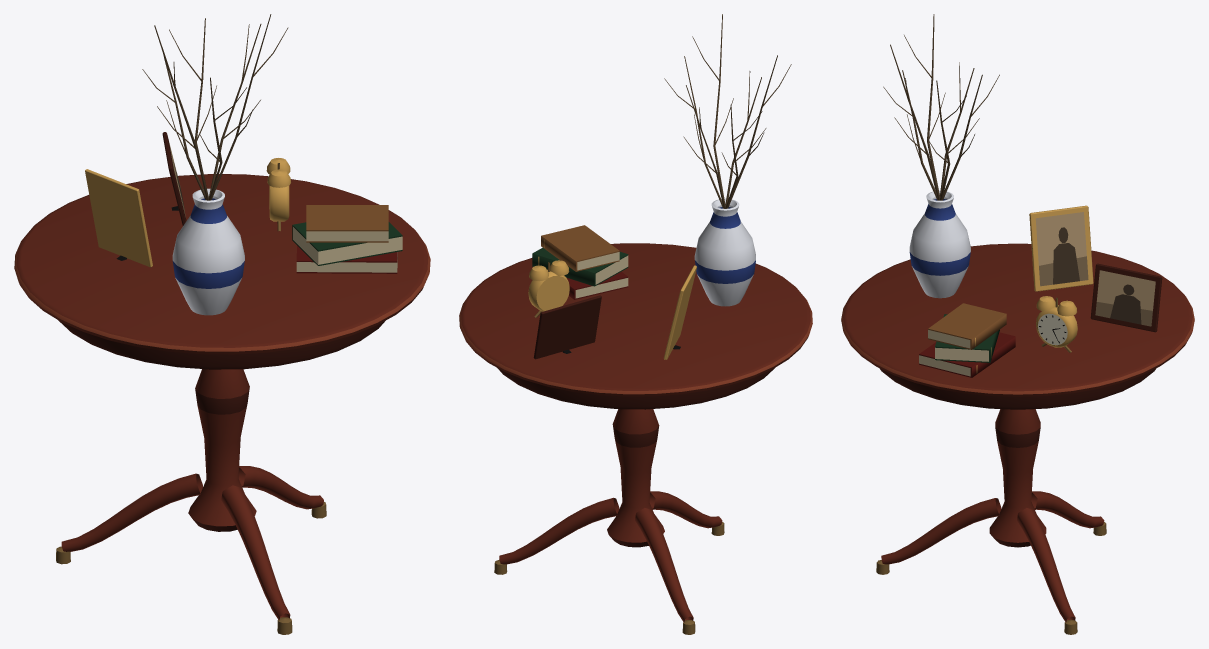
File: table_188.glb
The picture shows the model from 3 angles, left to right: view 1: azimuth 30°, elevation 25°; view 2: azimuth 150°, elevation 25°; view 3: azimuth 270°, elevation 25°; orthographic projection. The views are drawn at different scales.
Parts seen in each view (by area): view 1: tisch; view 2: tisch; view 3: tisch.
Part boxes in pixels (x1,y1,x2,y2): tisch: (14, 14, 430, 634); tisch: (459, 14, 812, 634); tisch: (841, 14, 1194, 634).
Bounding box in the file's own units: 0.91 × 1.49 × 0.91.
